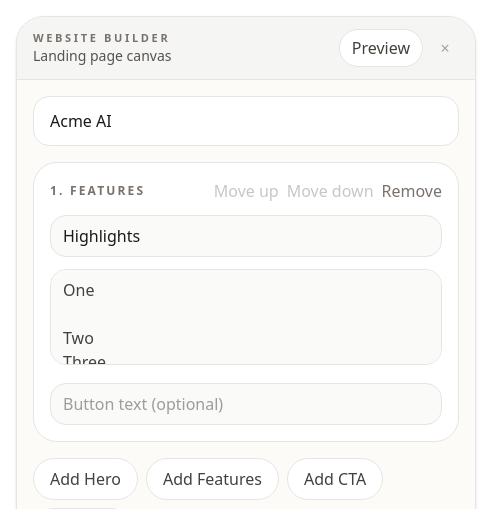
Scenario: WebsiteBuilder › renders features preview items split from newline-separated body text
Click the button "Preview". click: point(381, 48)
box: [339,29,423,67]
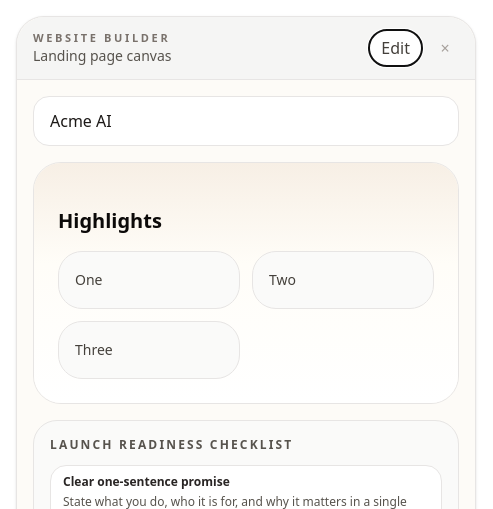
Result: the text "One" is shown at [58,251,240,309]
Result: the text "Two" is shown at [252,251,434,309]
Result: the text "Three" is shown at [58,321,240,379]
